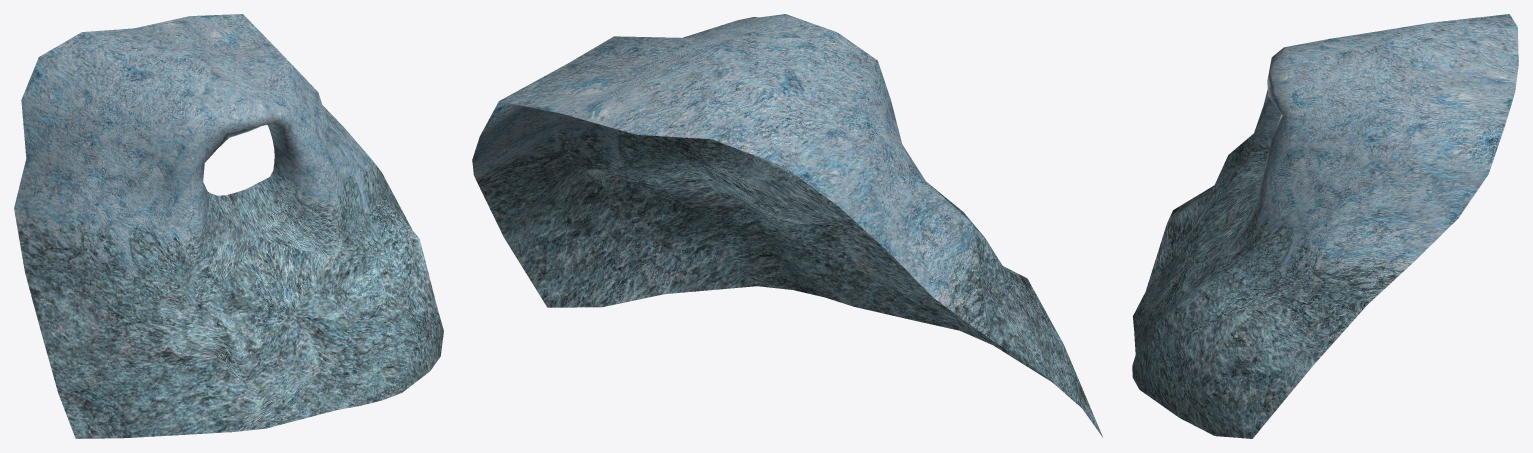
File: thm_all_cave_s02_ice_r0_mesh_l2.fbx
The picture shows the model from 3 angles, left to right: view 1: azimuth 30°, elevation 25°; view 2: azimuth 150°, elevation 25°; view 3: azimuth 270°, elevation 25°; orthographic projection. The views are drawn at different scales.
Parts seen in each view (by area): view 1: mesh_node; view 2: mesh_node; view 3: mesh_node.
Part boxes in pixels (bbox=[...]): mesh_node: bbox=[14, 14, 443, 438]; mesh_node: bbox=[472, 14, 1102, 437]; mesh_node: bbox=[1132, 14, 1518, 438].
Size of the model in its own units: 48.32 by 34.16 by 39.34.
